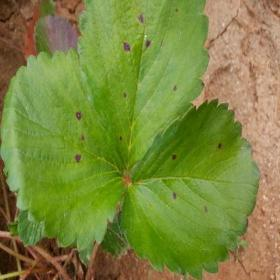Leaf Spot: (0, 48, 127, 251), (119, 97, 260, 279), (76, 0, 210, 175)
